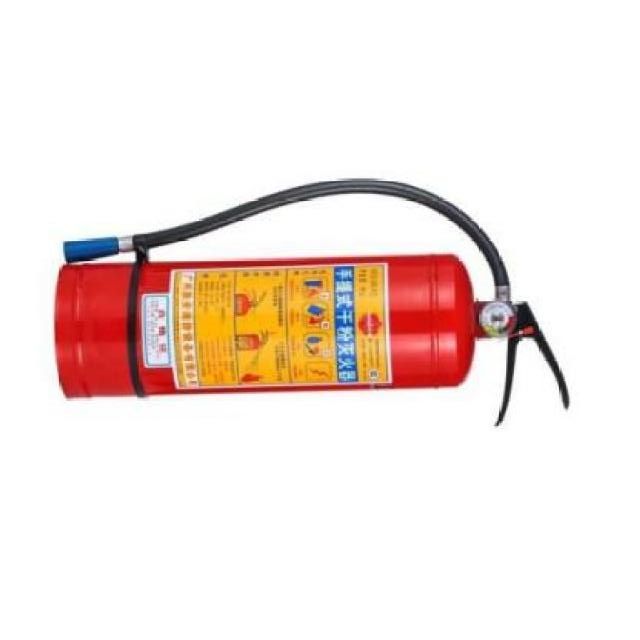fire extinguisher: (55, 178, 570, 427)
